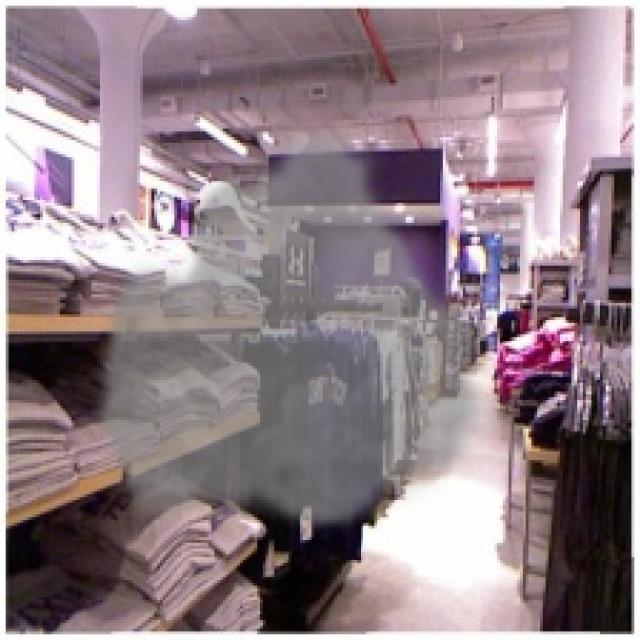smoke: (89, 117, 497, 534)
